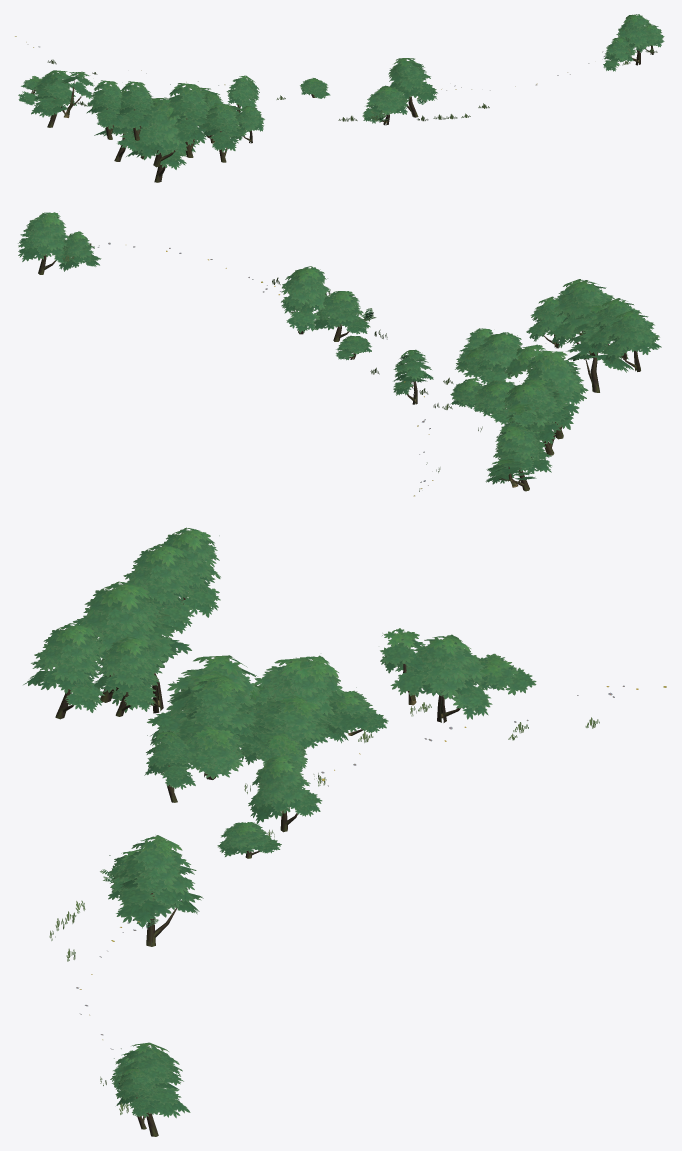
Rendered from pref_sm_4v4pointbake_WSJ_CSD_R03_lv2.fbx.
The picture shows the model from 3 angles, top to bottom: view 1: azimuth 30°, elevation 25°; view 2: azimuth 150°, elevation 25°; view 3: azimuth 270°, elevation 25°; orthographic projection. The views are drawn at different scales.
Parts seen in each view (by area): view 1: pref_sm_4v4pointbake_WSJ_CSD_R03_lv2; view 2: pref_sm_4v4pointbake_WSJ_CSD_R03_lv2; view 3: pref_sm_4v4pointbake_WSJ_CSD_R03_lv2.
Part boxes in pixels (box(x1,y1,x2,y2)): pref_sm_4v4pointbake_WSJ_CSD_R03_lv2: box(15, 14, 664, 182); pref_sm_4v4pointbake_WSJ_CSD_R03_lv2: box(18, 212, 661, 496); pref_sm_4v4pointbake_WSJ_CSD_R03_lv2: box(23, 527, 666, 1136).
Size of the model in its own units: 44.02 by 8.76 by 25.85.
